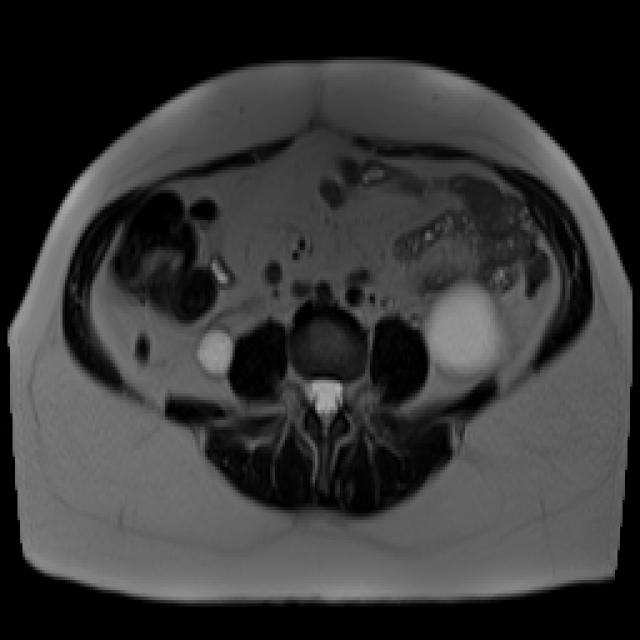sag: (196, 326, 235, 376)
sol: (422, 274, 518, 380)
